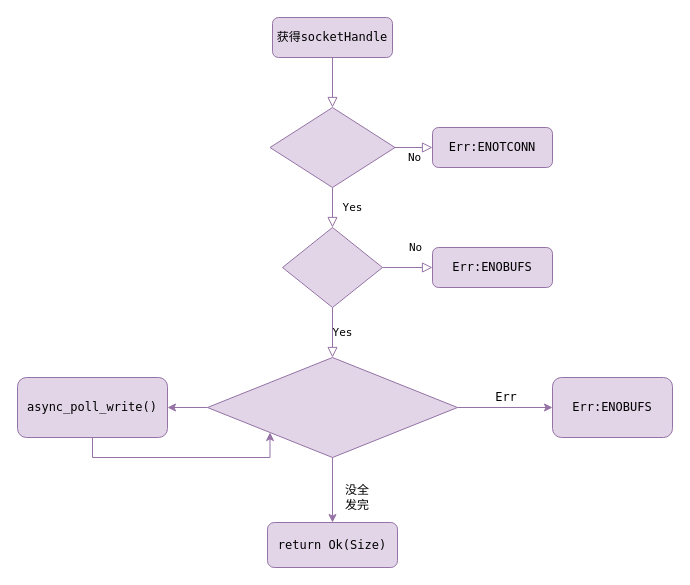
Image size: 690x585. Some labels were removed from this diagram. The box of each missing label's shape, as (x1, y1, x2, y2) in pixels:
send_slice(&data[offset..]): (206, 356, 458, 458)
socket can_send(): (282, 226, 382, 308)
socket是否open: (269, 106, 395, 188)
